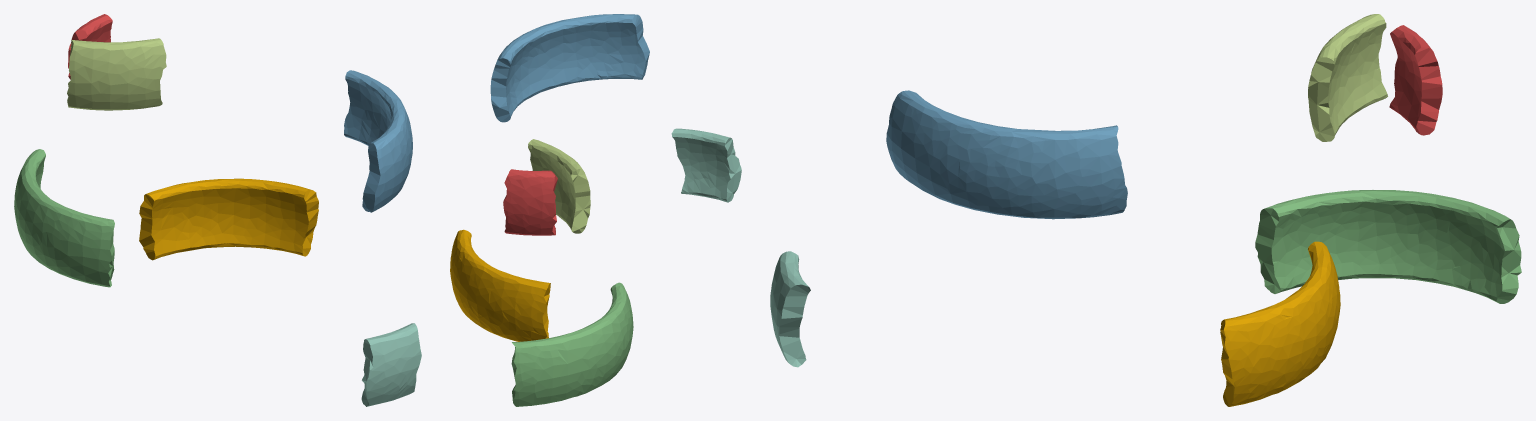
File: fractured_8_6pcs_transformed.glb
3 renders of one model, left to right at view 1: azimuth 30°, elevation 25°; view 2: azimuth 150°, elevation 25°; view 3: azimuth 270°, elevation 25°, orthographic. The views are drawn at different scales.
Visible parts, largest first — view 1: piece_0.obj, piece_3.obj, piece_5.obj, piece_2.obj, piece_4.obj, piece_1.obj; view 2: piece_2.obj, piece_3.obj, piece_0.obj, piece_4.obj, piece_1.obj, piece_5.obj; view 3: piece_3.obj, piece_2.obj, piece_0.obj, piece_5.obj, piece_1.obj, piece_4.obj.
Boxes of the visible parts, left/top/right/bottom form: piece_0.obj: left=139, top=178, right=318, bottom=260; piece_3.obj: left=14, top=149, right=114, bottom=287; piece_5.obj: left=67, top=38, right=166, bottom=110; piece_2.obj: left=344, top=70, right=412, bottom=212; piece_4.obj: left=361, top=323, right=421, bottom=406; piece_1.obj: left=68, top=14, right=112, bottom=79; piece_2.obj: left=490, top=14, right=649, bottom=122; piece_3.obj: left=511, top=282, right=633, bottom=406; piece_0.obj: left=450, top=229, right=550, bottom=341; piece_4.obj: left=671, top=128, right=741, bottom=202; piece_1.obj: left=503, top=169, right=557, bottom=235; piece_5.obj: left=528, top=139, right=590, bottom=233; piece_3.obj: left=1255, top=190, right=1521, bottom=303; piece_2.obj: left=886, top=90, right=1127, bottom=219; piece_0.obj: left=1220, top=241, right=1340, bottom=406; piece_5.obj: left=1308, top=14, right=1387, bottom=141; piece_1.obj: left=1389, top=25, right=1442, bottom=135; piece_4.obj: left=770, top=251, right=810, bottom=367.
Size of the model in its own units: 1 by 0.867 by 2.1.
